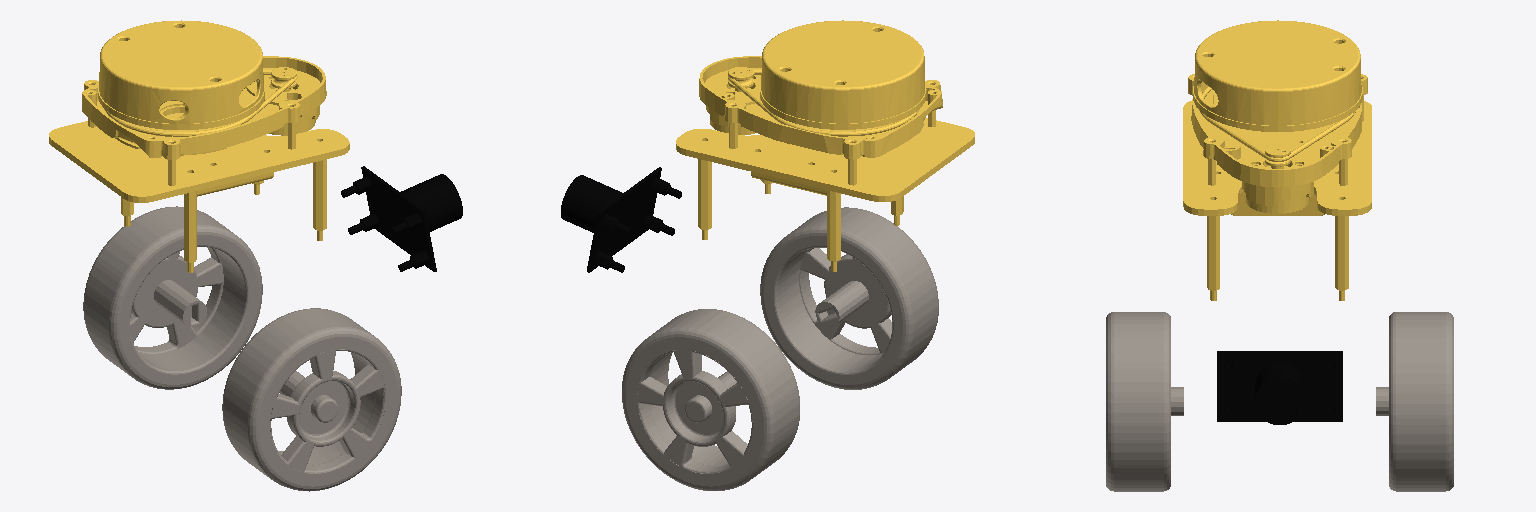
URDF robot description (originbot_description):
<?xml version="1.0" encoding="utf-8"?>
<!-- This URDF was automatically created by SolidWorks to URDF Exporter! Originally created by [author] ([email redacted]) 
     Commit Version: 1.6.0-4-g7f85cfe  Build Version: 1.6.7995.38578
     For more information, please see http://wiki.ros.org/sw_urdf_exporter -->
<robot
  name="originbot_description">
	
	<link
    name="base_footprint">
  </link>
 
  <joint
    name="base_joint"
    type="fixed">
    <origin
      xyz="0 0 0.05325"
      rpy="0 0 0" />
    <parent link="base_footprint" />
    <child link="base_link" />
  </joint>
      
  <link
    name="base_link">
    <inertial>
      <origin
        xyz="-0.00399634844340349 -0.000650527547766478 0.00381140746673057"
        rpy="0 0 0" />
      <mass
        value="0.236859061418076" />
      <inertia
        ixx="6.84831903258766E-05"
        ixy="1.63324829601983E-07"
        ixz="-2.66259409240242E-07"
        iyy="0.000165939871835843"
        iyz="-8.15626369838594E-10"
        izz="0.000211891844456702" />
    </inertial>
    <visual>
      <origin
        xyz="0 0 0"
        rpy="0 0 0" />
      <geometry>
        <mesh
          filename="package://originbot_description/meshes/base_link.STL" />
      </geometry>
      <material
        name="">
        <color
          rgba="0 0.341176470588235 0.0901960784313725 1" />
      </material>
    </visual>
    <collision>
      <origin
        xyz="0 0 0"
        rpy="0 0 0" />
      <geometry>
        <mesh
          filename="package://originbot_description/meshes/base_link.STL" />
      </geometry>
    </collision>
  </link>
  <link
    name="left_wheel_link">
    <inertial>
      <origin
        xyz="2.0607868149447E-07 0.000965704141897915 -9.57608029414359E-07"
        rpy="0 0 0" />
      <mass
        value="0.0467086060854941" />
      <inertia
        ixx="2.09829197901363E-05"
        ixy="-3.60942780697087E-11"
        ixz="2.33719089311653E-10"
        iyy="3.72912801499854E-05"
        iyz="1.67967163248966E-10"
        izz="2.09822204724271E-05" />
    </inertial>
    <visual>
      <origin
        xyz="0 0 0"
        rpy="0 0 0" />
      <geometry>
        <mesh
          filename="package://originbot_description/meshes/left_wheel_link.STL" />
      </geometry>
      <material
        name="">
        <color
          rgba="0.647058823529412 0.619607843137255 0.588235294117647 1" />
      </material>
    </visual>
    <collision>
      <origin
        xyz="0 0 0"
        rpy="0 0 0" />
      <geometry>
        <mesh
          filename="package://originbot_description/meshes/left_wheel_link.STL" />
      </geometry>
    </collision>
  </link>
  <joint
    name="left_wheel_joint"
    type="continuous">
    <origin
      xyz="0.018413 0.0539 -0.019"
      rpy="0 0 0" />
    <parent
      link="base_link" />
    <child
      link="left_wheel_link" />
    <axis
      xyz="0 1 0" />
  </joint>
  <link
    name="right_wheel_link">
    <inertial>
      <origin
        xyz="7.39130195197973E-07 -0.000965703480956627 -6.42517347358013E-07"
        rpy="0 0 0" />
      <mass
        value="0.0467086081593908" />
      <inertia
        ixx="2.09825817238739E-05"
        ixy="1.2976964303983E-10"
        ixz="4.20450885198543E-10"
        iyy="3.72912801748024E-05"
        iyz="-1.12794928134702E-10"
        izz="2.09825601200846E-05" />
    </inertial>
    <visual>
      <origin
        xyz="0 0 0"
        rpy="0 0 0" />
      <geometry>
        <mesh
          filename="package://originbot_description/meshes/right_wheel_link.STL" />
      </geometry>
      <material
        name="">
        <color
          rgba="0.647058823529412 0.619607843137255 0.588235294117647 1" />
      </material>
    </visual>
    <collision>
      <origin
        xyz="0 0 0"
        rpy="0 0 0" />
      <geometry>
        <mesh
          filename="package://originbot_description/meshes/right_wheel_link.STL" />
      </geometry>
    </collision>
  </link>
  <joint
    name="right_wheel_joint"
    type="continuous">
    <origin
      xyz="0.018413 -0.0539 -0.019"
      rpy="0 0 0" />
    <parent
      link="base_link" />
    <child
      link="right_wheel_link" />
    <axis
      xyz="0 1 0" />
  </joint>
  <link
    name="laser_link">
    <inertial>
      <origin
        xyz="0.0109421175506109 3.00841528269968E-05 -0.017474264011641"
        rpy="0 0 0" />
      <mass
        value="0.0646741884187739" />
      <inertia
        ixx="2.04409829581278E-05"
        ixy="-1.64635804660803E-07"
        ixz="1.05988971669207E-07"
        iyy="3.06510427047651E-05"
        iyz="3.85223718426068E-08"
        izz="4.96686607454108E-05" />
    </inertial>
    <visual>
      <origin
        xyz="0 0 0"
        rpy="0 0 0" />
      <geometry>
        <mesh
          filename="package://originbot_description/meshes/laser_link.STL" />
      </geometry>
      <material
        name="">
        <color
          rgba="1 0.843137254901961 0.372549019607843 1" />
      </material>
    </visual>
    <collision>
      <origin
        xyz="0 0 0"
        rpy="0 0 0" />
      <geometry>
        <mesh
          filename="package://originbot_description/meshes/laser_link.STL" />
      </geometry>
    </collision>
  </link>
  <joint
    name="laser_joint"
    type="fixed">
    <origin
      xyz="-0.0093963 -0.00079002 0.099001"
      rpy="0 0 0" />
    <parent
      link="base_link" />
    <child
      link="laser_link" />
    <axis
      xyz="0 0 0" />
  </joint>
  <link
    name="camera_link">
    <inertial>
      <origin
        xyz="-0.0130203400983315 -4.43862997806289E-16 -0.00247433520658521"
        rpy="0 0 0" />
      <mass
        value="0.00821173598054999" />
      <inertia
        ixx="6.88574419869532E-07"
        ixy="-9.8147806737073E-23"
        ixz="5.58354995913257E-10"
        iyy="4.82925286329623E-07"
        iyz="3.06441668645145E-23"
        izz="6.85742375900637E-07" />
    </inertial>
    <visual>
      <origin
        xyz="0 0 0"
        rpy="0 0 0" />
      <geometry>
        <mesh
          filename="package://originbot_description/meshes/camera_link.STL" />
      </geometry>
      <material
        name="">
        <color
          rgba="0.0549019607843137 0.0549019607843137 0.0549019607843137 1" />
      </material>
    </visual>
    <collision>
      <origin
        xyz="0 0 0"
        rpy="0 0 0" />
      <geometry>
        <mesh
          filename="package://originbot_description/meshes/camera_link.STL" />
      </geometry>
    </collision>
  </link>
  <joint
    name="camera_joint"
    type="fixed">
    <origin
      xyz="0.10946 0 0.024159"
      rpy="0 0 0" />
    <parent
      link="base_link" />
    <child
      link="camera_link" />
    <axis
      xyz="0 0 0" />
  </joint>
</robot>

--- Render facts (derived) ---
The picture shows the robot from 3 angles, left to right: view 1: azimuth 30°, elevation 25°; view 2: azimuth 150°, elevation 25°; view 3: azimuth 270°, elevation 25°; orthographic projection.
Robot: originbot_description — 6 links, 5 joints (2 continuous, 3 fixed); root link base_footprint; default pose: every joint at zero.
Visible links, largest first — view 1: laser_link, right_wheel_link, left_wheel_link, camera_link; view 2: laser_link, left_wheel_link, right_wheel_link, camera_link; view 3: laser_link, left_wheel_link, right_wheel_link, camera_link.
Boxes of the visible links, x1,y1,x2,y2 form: laser_link: (49, 20, 349, 272); right_wheel_link: (222, 308, 401, 491); left_wheel_link: (83, 206, 262, 389); camera_link: (341, 166, 462, 271); laser_link: (676, 20, 974, 271); left_wheel_link: (622, 309, 799, 490); right_wheel_link: (760, 207, 938, 389); camera_link: (561, 167, 681, 272); laser_link: (1183, 20, 1371, 300); left_wheel_link: (1376, 312, 1453, 491); right_wheel_link: (1106, 312, 1183, 491); camera_link: (1217, 351, 1342, 424).
Bounding box of the posed robot: 0.1646 × 0.1328 × 0.1673 m (x, y, z).
4 mesh visuals loaded from 5 distinct referenced files (4 binary STL); not drawn: 1 (reference not matched to a file when rendering).
